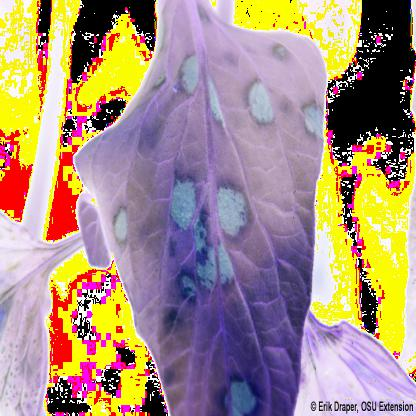tomato mold leaf: (78, 13, 329, 411)
